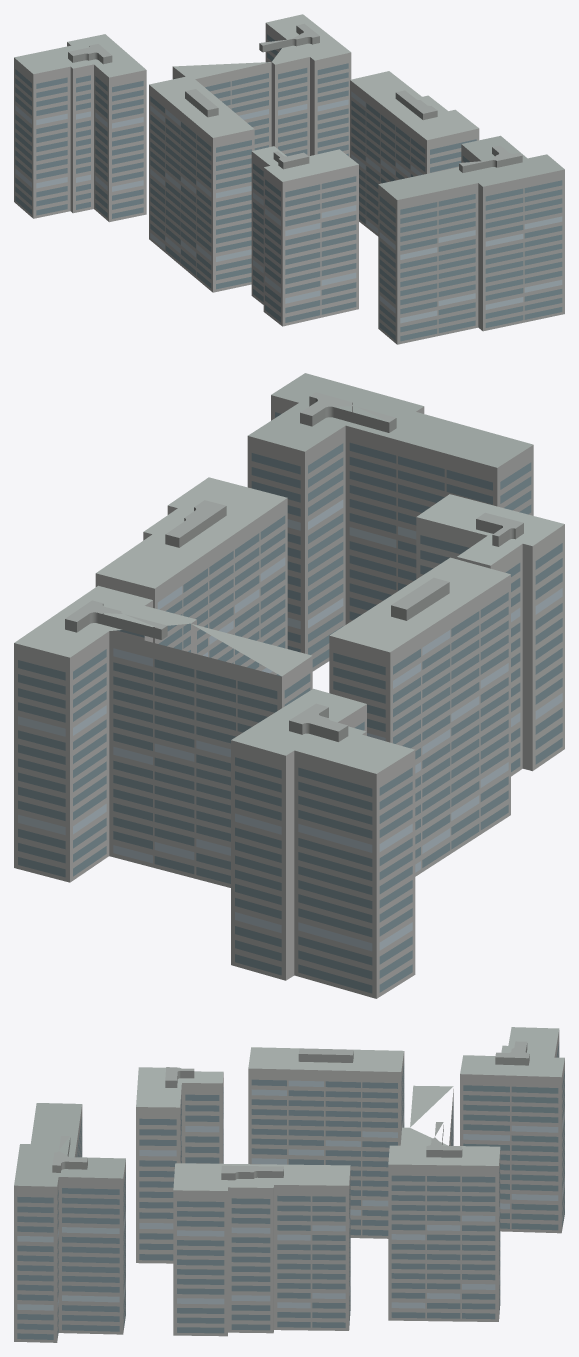
Rendered from apt-a15607001.glb.
3 renders of one model, top to bottom at view 1: azimuth 30°, elevation 25°; view 2: azimuth 150°, elevation 25°; view 3: azimuth 270°, elevation 25°, orthographic. The views are drawn at different scales.
Parts seen in each view (by area): view 1: apt-a15607001; view 2: apt-a15607001; view 3: apt-a15607001.
Boxes of the visible parts, box(x1,y1,x2,y2) form: apt-a15607001: box(14, 14, 564, 344); apt-a15607001: box(14, 373, 564, 998); apt-a15607001: box(14, 1027, 564, 1342).
Size of the model in its own units: 90.12 by 46 by 131.
